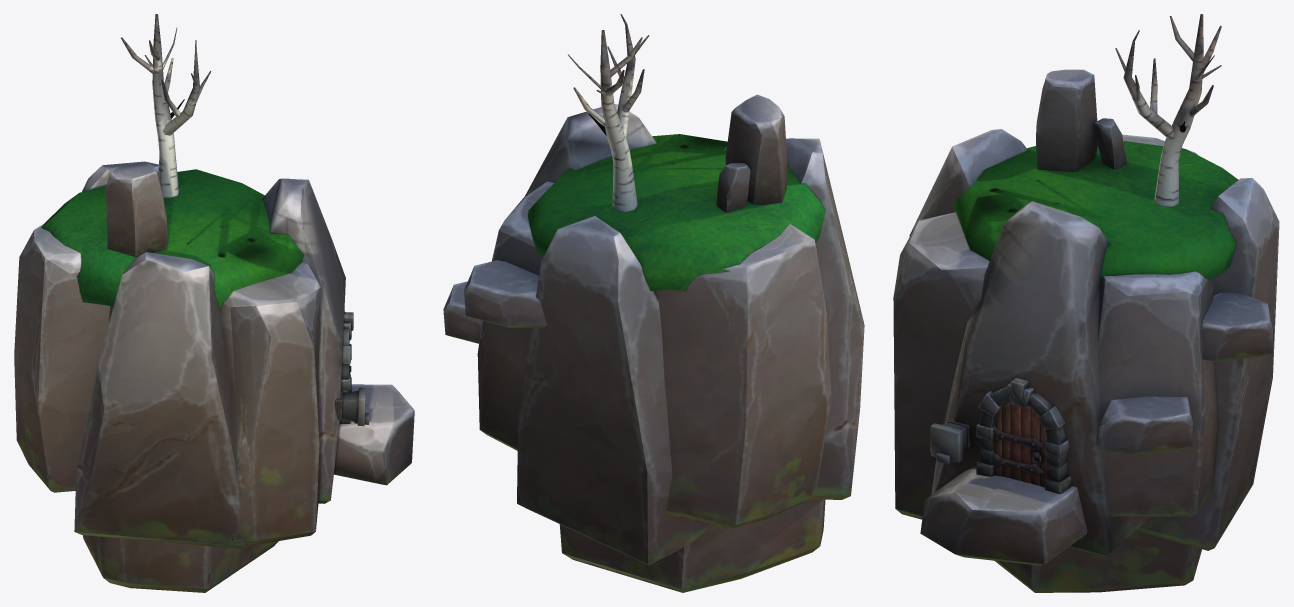
The model's file is circles-island-2.glb.
3 renders of one model, left to right at view 1: azimuth 30°, elevation 25°; view 2: azimuth 150°, elevation 25°; view 3: azimuth 270°, elevation 25°, orthographic. The views are drawn at different scales.
Visible parts, largest first — view 1: island_2; view 2: island_2; view 3: island_2.
Boxes of the visible parts, x1=… form: island_2: x1=14, y1=14, x2=414, y2=592; island_2: x1=443, y1=14, x2=864, y2=592; island_2: x1=893, y1=14, x2=1279, y2=592.
Bounding box in the file's own units: 10.1 × 14.37 × 8.94.
2 materials, 1 textured.
